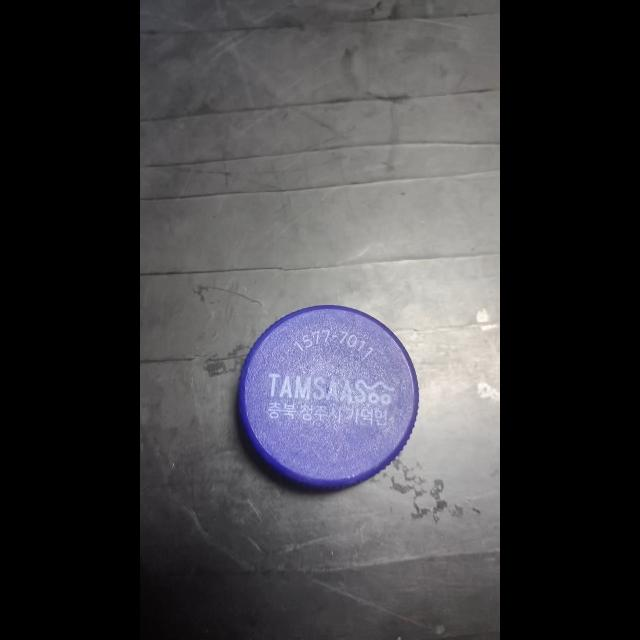plastic_bottle_cap: (238, 303, 422, 495)
